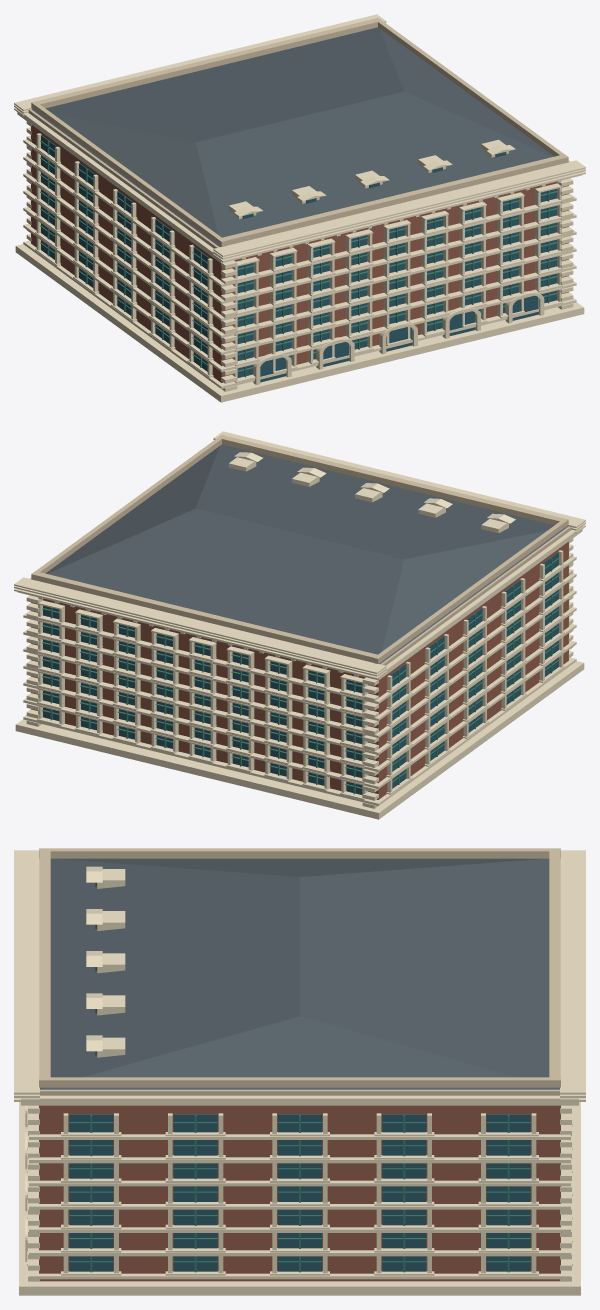
The model's file is astor-house.glb.
3 views of the same model, one above another, from view 1: azimuth 30°, elevation 25°; view 2: azimuth 150°, elevation 25°; view 3: azimuth 270°, elevation 25° (orthographic). The views are drawn at different scales.
Visible parts, largest first — view 1: astor-house; view 2: astor-house; view 3: astor-house.
Part boxes in pixels (box(x1,y1,x2,y2)): astor-house: box(14, 14, 585, 402); astor-house: box(14, 431, 585, 819); astor-house: box(14, 848, 585, 1295).
Bounding box in the file's own units: 54.36 × 23.8 × 54.19.
